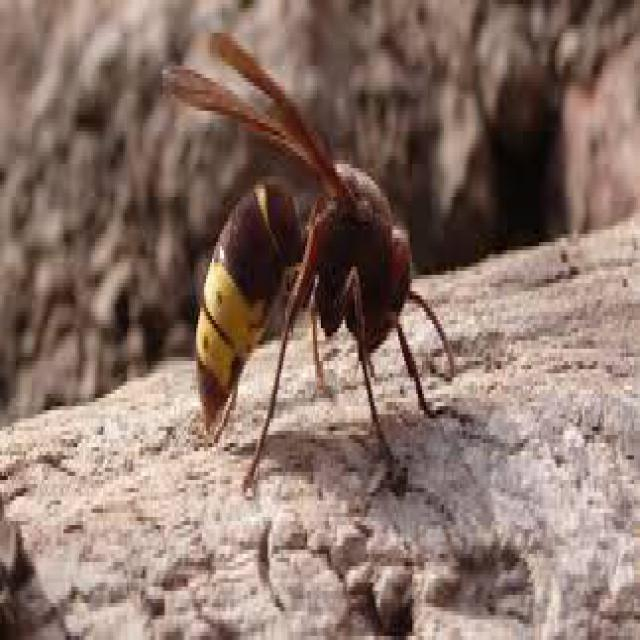Vespa Orientalis: (142, 12, 474, 522)
